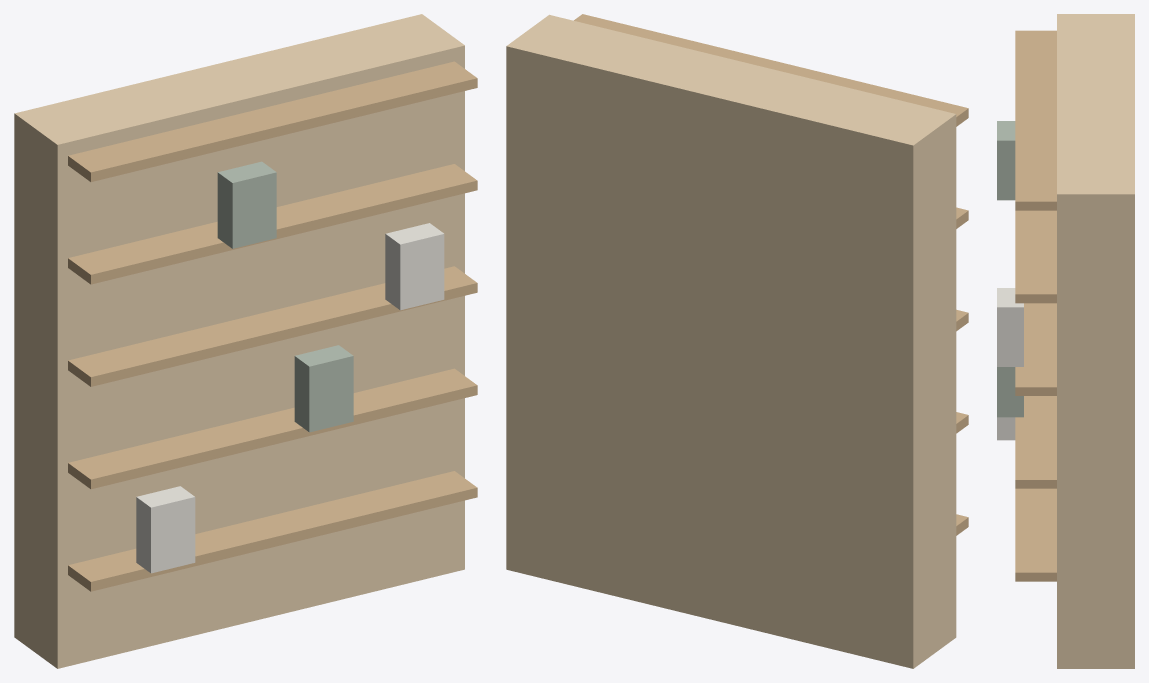
Rendered from bookcase.glb.
3 renders of one model, left to right at view 1: azimuth 30°, elevation 25°; view 2: azimuth 150°, elevation 25°; view 3: azimuth 270°, elevation 25°, orthographic. The views are drawn at different scales.
Visible parts, largest first — view 1: bookcase_oak_light_0, bookcase_oak_5, bookcase_oak_2, bookcase_oak_1, bookcase_oak_4, bookcase_oak_3, bookcase_ivory_6, bookcase_sage_7, bookcase_sage_9, bookcase_ivory_8; view 2: bookcase_oak_light_0, bookcase_oak_5; view 3: bookcase_oak_light_0, bookcase_oak_5, bookcase_oak_1, bookcase_oak_4, bookcase_oak_2, bookcase_oak_3, bookcase_ivory_8, bookcase_sage_9, bookcase_sage_7, bookcase_ivory_6.
Part boxes in pixels (x1=…): bookcase_oak_light_0: x1=14, y1=14, x2=464, y2=668; bookcase_oak_5: x1=68, y1=61, x2=477, y2=181; bookcase_oak_2: x1=68, y1=368, x2=477, y2=489; bookcase_oak_1: x1=68, y1=471, x2=477, y2=591; bookcase_oak_4: x1=68, y1=164, x2=477, y2=284; bookcase_oak_3: x1=68, y1=266, x2=477, y2=386; bookcase_ivory_6: x1=136, y1=486, x2=195, y2=573; bookcase_sage_7: x1=294, y1=345, x2=353, y2=432; bookcase_sage_9: x1=217, y1=161, x2=276, y2=248; bookcase_ivory_8: x1=385, y1=223, x2=444, y2=310; bookcase_oak_light_0: x1=506, y1=14, x2=956, y2=668; bookcase_oak_5: x1=574, y1=14, x2=968, y2=126; bookcase_oak_light_0: x1=1057, y1=14, x2=1134, y2=668; bookcase_oak_5: x1=1015, y1=30, x2=1056, y2=210; bookcase_oak_1: x1=1015, y1=488, x2=1056, y2=581; bookcase_oak_4: x1=1015, y1=210, x2=1056, y2=303; bookcase_oak_2: x1=1015, y1=396, x2=1056, y2=488; bookcase_oak_3: x1=1015, y1=303, x2=1056, y2=395; bookcase_ivory_8: x1=997, y1=288, x2=1023, y2=366; bookcase_sage_9: x1=997, y1=121, x2=1015, y2=200; bookcase_sage_7: x1=997, y1=367, x2=1023, y2=417; bookcase_ivory_6: x1=997, y1=417, x2=1015, y2=440.
Bounding box in the file's own units: 1.75 × 2.15 × 0.565.
